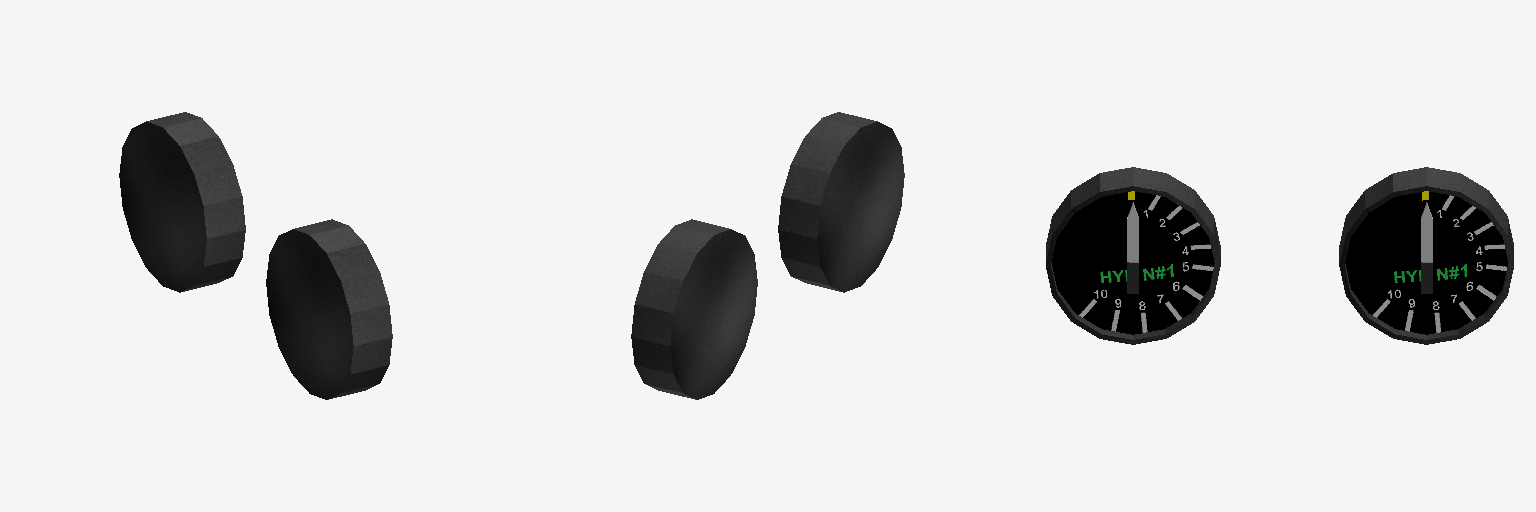
3 views of the same model, side by side, from view 1: azimuth 30°, elevation 25°; view 2: azimuth 150°, elevation 25°; view 3: azimuth 270°, elevation 25° (orthographic).
Visible parts, largest first — view 1: Cursor-2_RPM-2_CURSOR-1.001, Cursor-1_RPM-2_CURSOR-1.000; view 2: Cursor-2_RPM-2_CURSOR-1.001, Cursor-1_RPM-2_CURSOR-1.000; view 3: Cursor-2_RPM-2_CURSOR-1.001, Cursor-1_RPM-2_CURSOR-1.000, HYD-2_Cursor-2_RPM-1.001, HYD-1_Cursor-2_RPM-1.000.
Boxes of the visible parts, x1=… form: Cursor-2_RPM-2_CURSOR-1.001: x1=266, y1=219, x2=392, y2=399; Cursor-1_RPM-2_CURSOR-1.000: x1=119, y1=112, x2=245, y2=292; Cursor-2_RPM-2_CURSOR-1.001: x1=778, y1=112, x2=904, y2=292; Cursor-1_RPM-2_CURSOR-1.000: x1=631, y1=219, x2=757, y2=399; Cursor-2_RPM-2_CURSOR-1.001: x1=1046, y1=167, x2=1220, y2=344; Cursor-1_RPM-2_CURSOR-1.000: x1=1339, y1=167, x2=1513, y2=344; HYD-2_Cursor-2_RPM-1.001: x1=1127, y1=202, x2=1138, y2=293; HYD-1_Cursor-2_RPM-1.000: x1=1421, y1=202, x2=1432, y2=293.
Bounding box in the file's own units: 0.0154 × 0.0597 × 0.1597.
Materials: 2 (1 with a texture image).